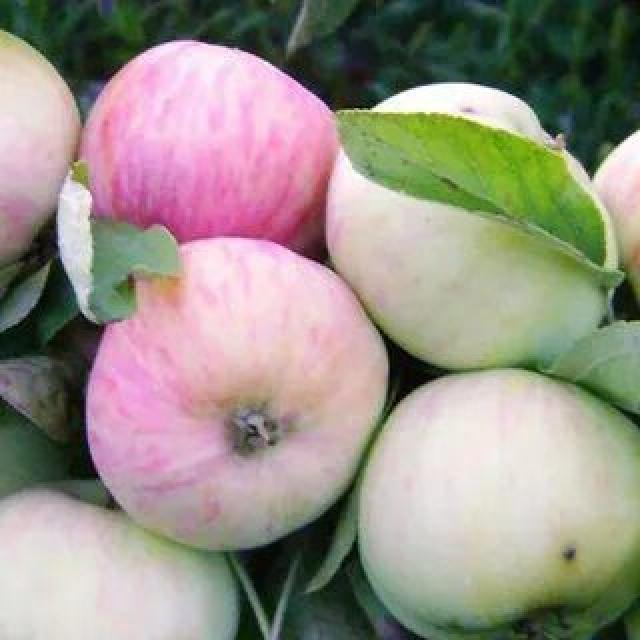Fresh Apple: (105, 233, 373, 565), (361, 368, 640, 634), (350, 95, 603, 368), (85, 40, 332, 248), (0, 478, 228, 640)
